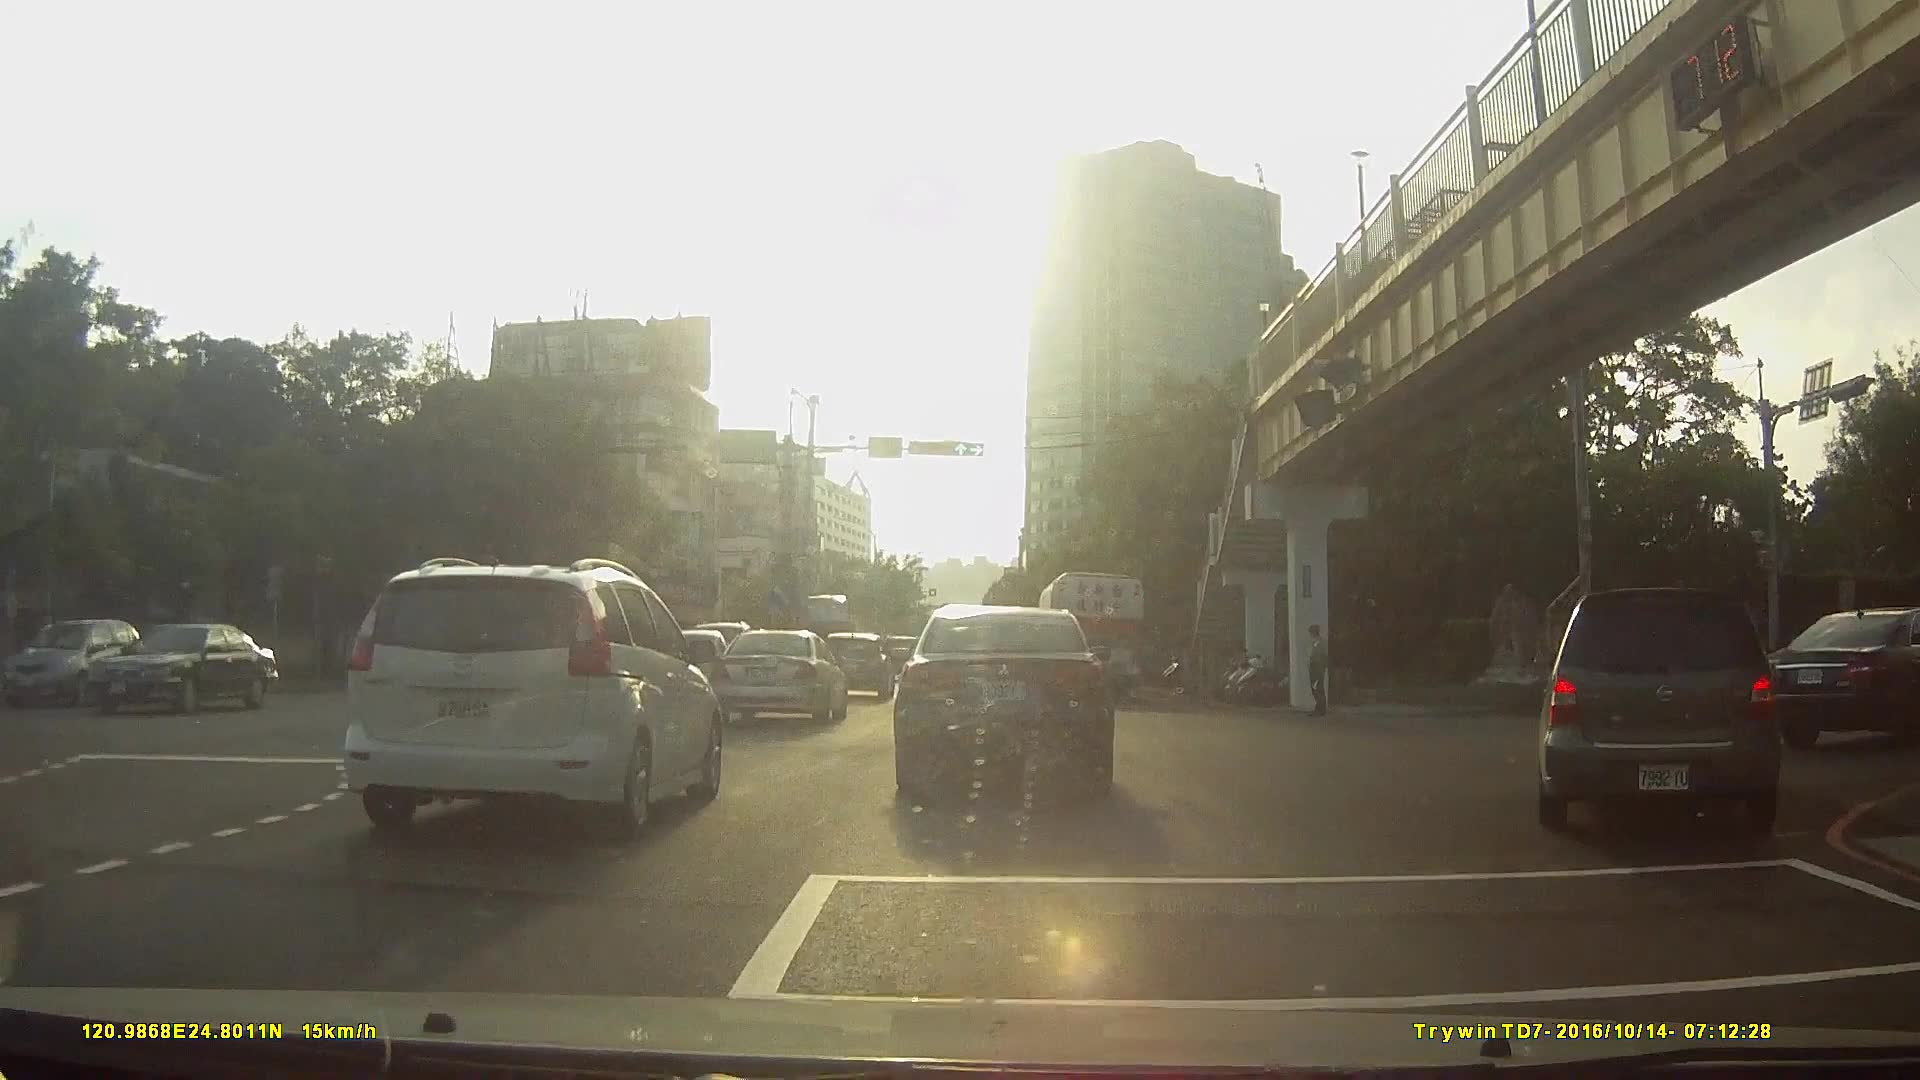pedestrian: (1300, 619, 1339, 721)
vehicle: (340, 551, 721, 836), (1523, 580, 1794, 835), (892, 600, 1112, 805), (1745, 606, 1920, 749), (66, 621, 290, 728), (1034, 570, 1144, 707), (710, 629, 849, 728), (1, 623, 145, 718), (148, 618, 222, 693), (820, 630, 896, 701)
